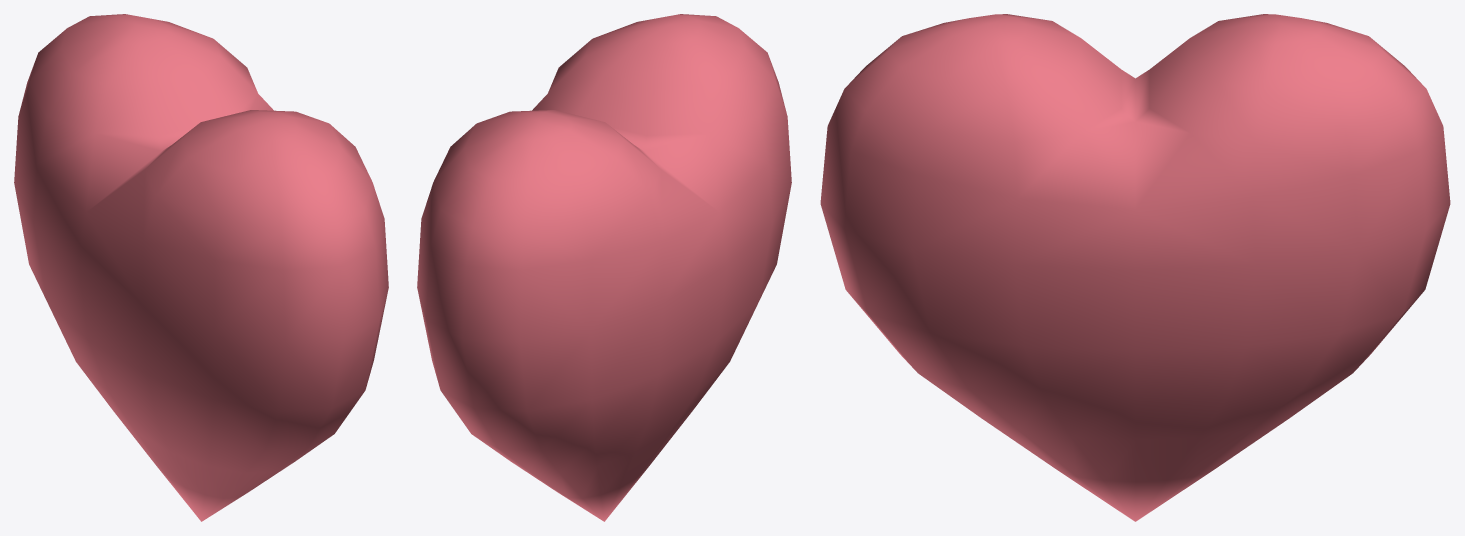
Rendered from Heart.fbx.
3 renders of one model, left to right at view 1: azimuth 30°, elevation 25°; view 2: azimuth 150°, elevation 25°; view 3: azimuth 270°, elevation 25°, orthographic. The views are drawn at different scales.
Parts seen in each view (by area): view 1: Sphere; view 2: Sphere; view 3: Sphere.
Boxes of the visible parts, left/top/right/bottom form: Sphere: left=14, top=14, right=388, bottom=521; Sphere: left=417, top=14, right=791, bottom=521; Sphere: left=820, top=14, right=1450, bottom=521.
Size of the model in its own units: 0.5157 by 0.9002 by 1.03.
